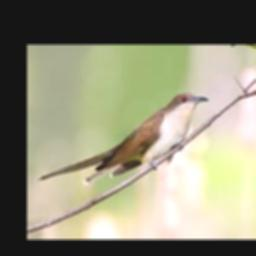Cuckoo: (36, 93, 209, 184)
